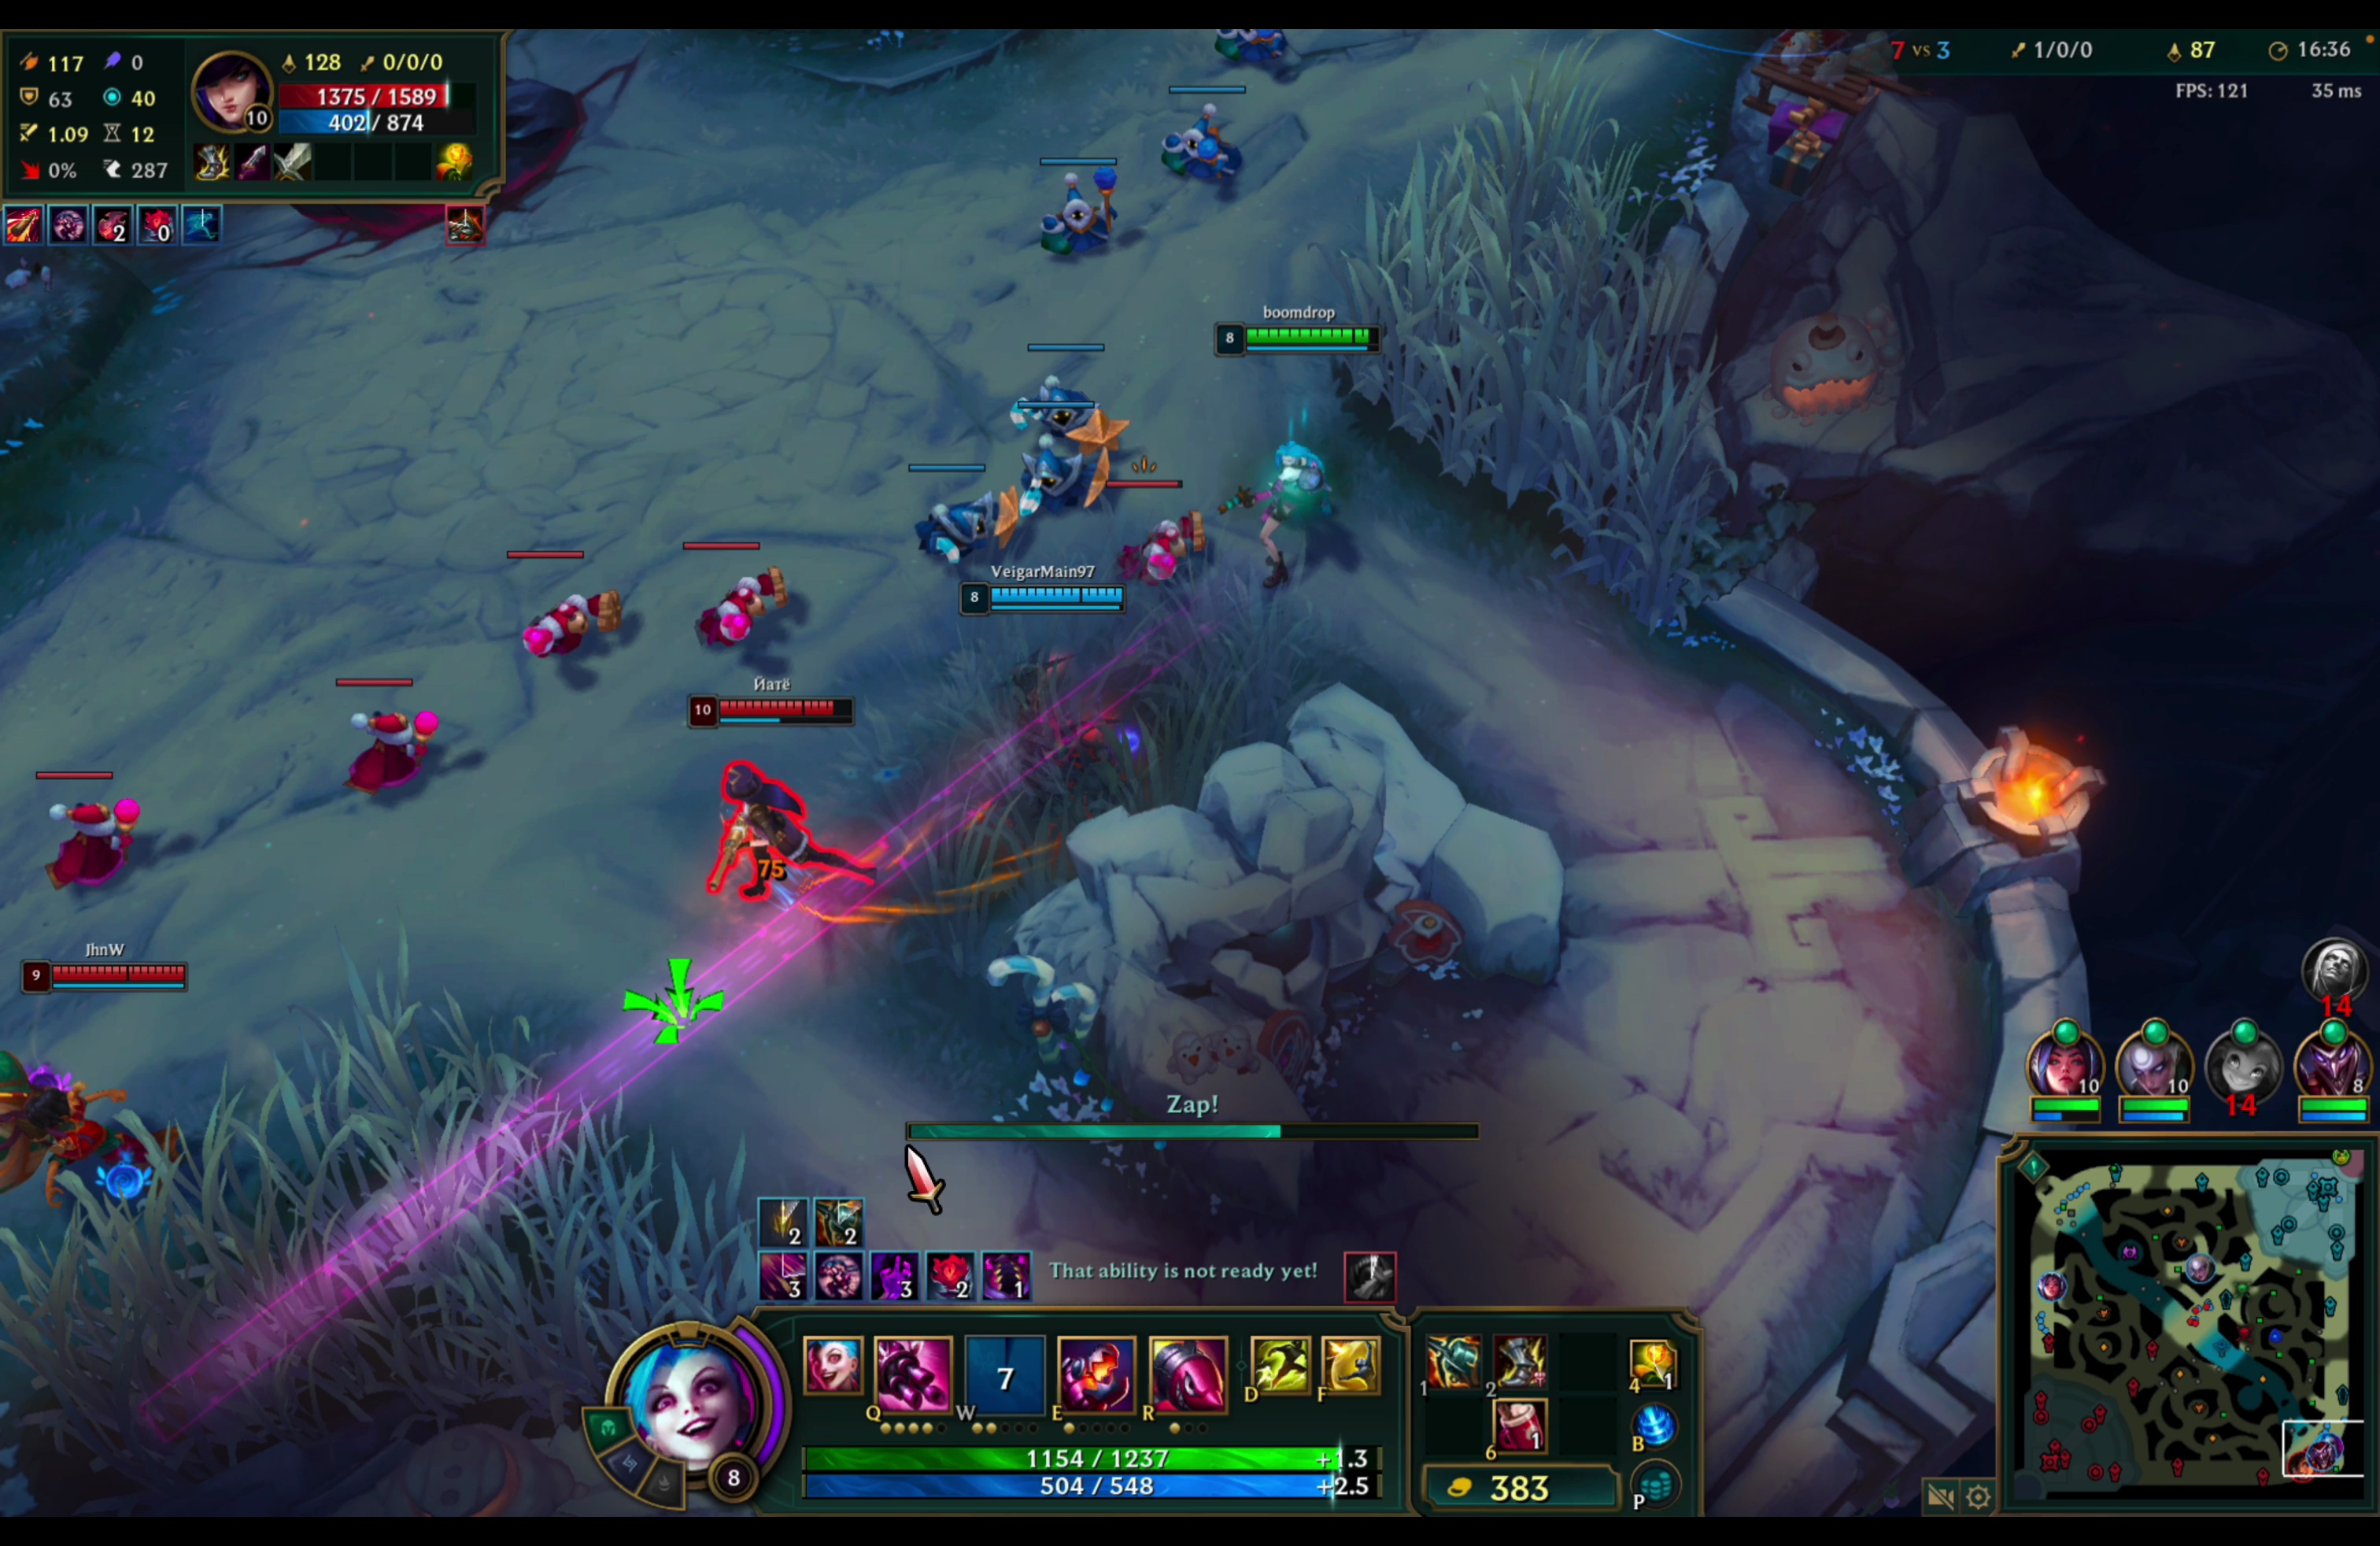JINX_W_PROJECTILE: (19, 302, 1377, 1529)
